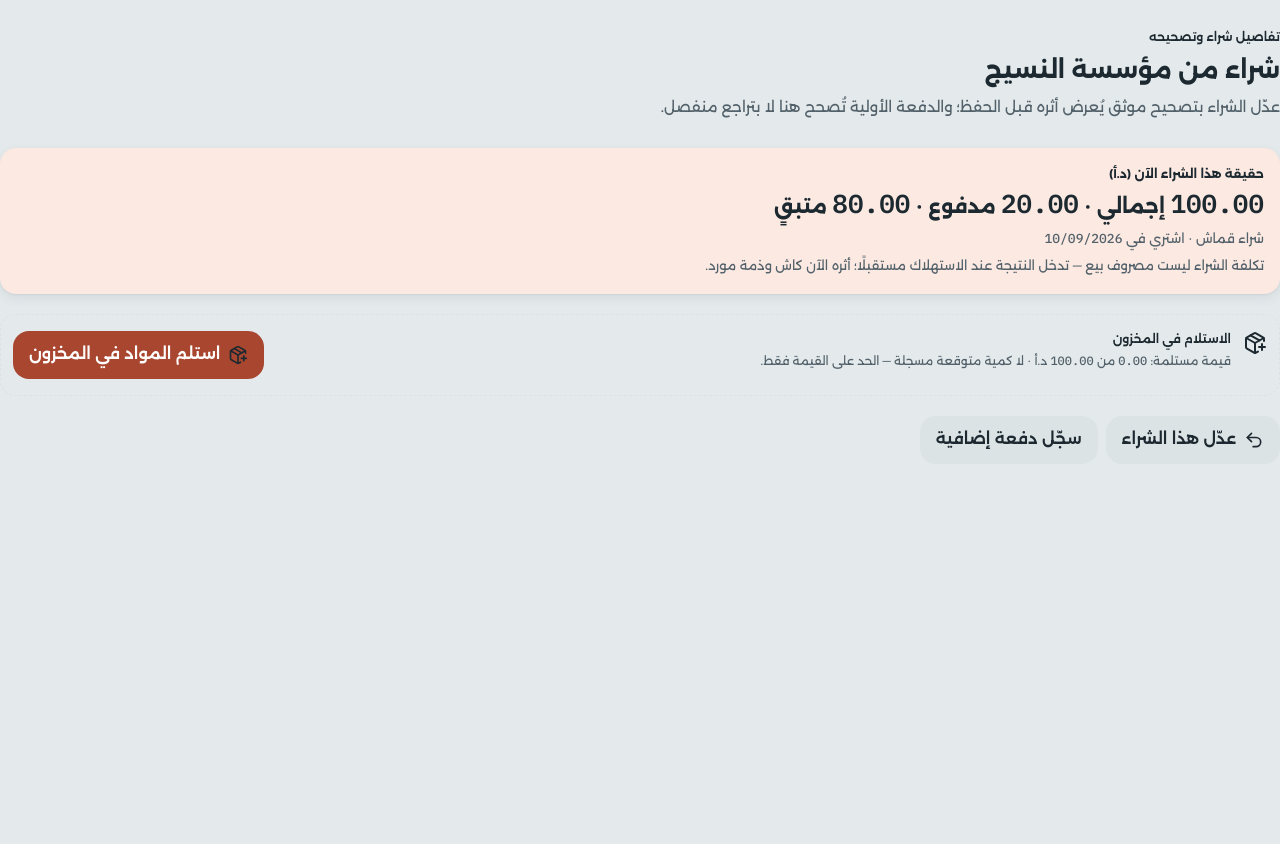
Test: G3 hardening — storage_stale recovery journeys (typed codes, real store) › genuine storage failure renders as an error (role=alert), never styled as success
Expected: the heading "شراء من مؤسسة النسيج" is shown, [984,55,1279,84]
Click the button "عدّل هذا الشراء" at (1193, 440), box [1106,416,1279,464]
(page scrolled)
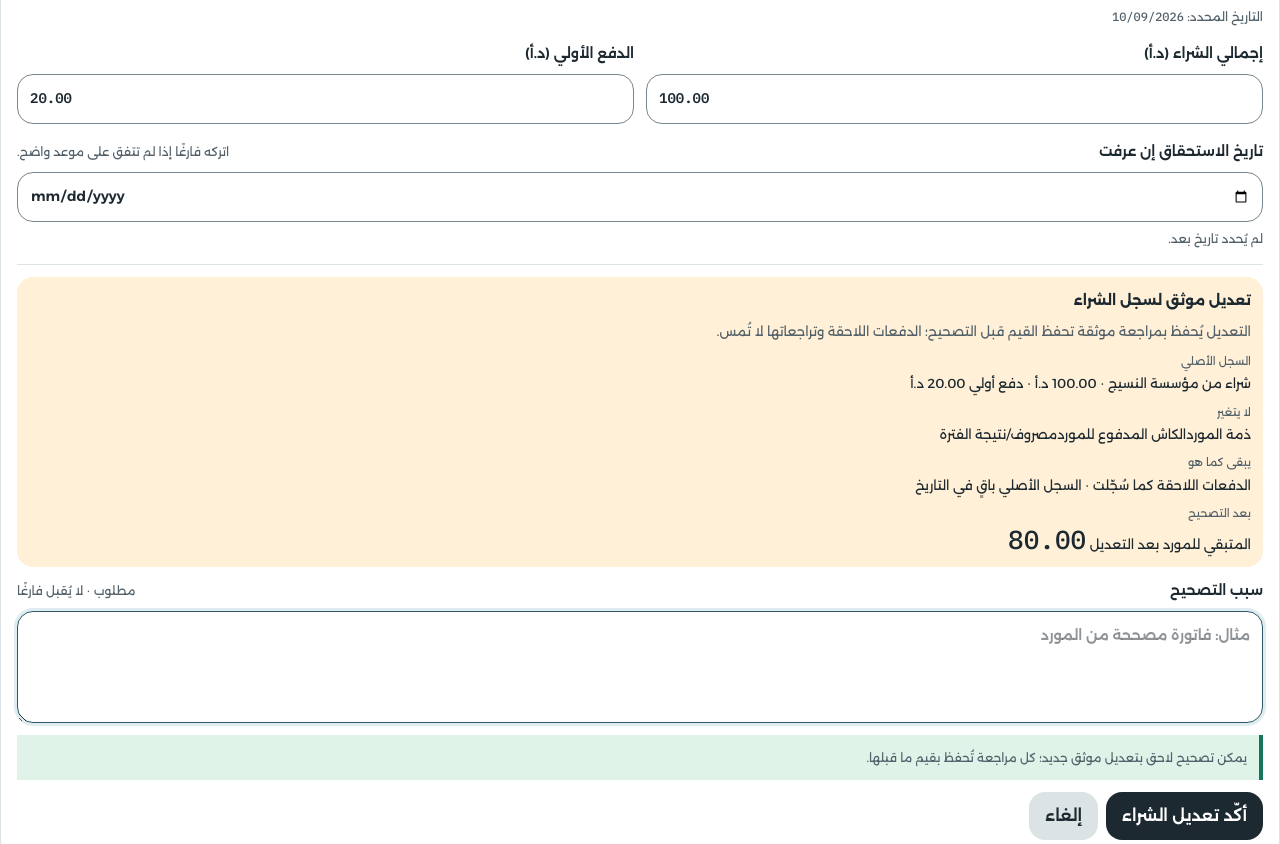
Type "فاتورة مصححة" into the text box with placeholder "مثال: فاتورة مصححة من المورد" at (640, 667), box [17,611,1263,723]
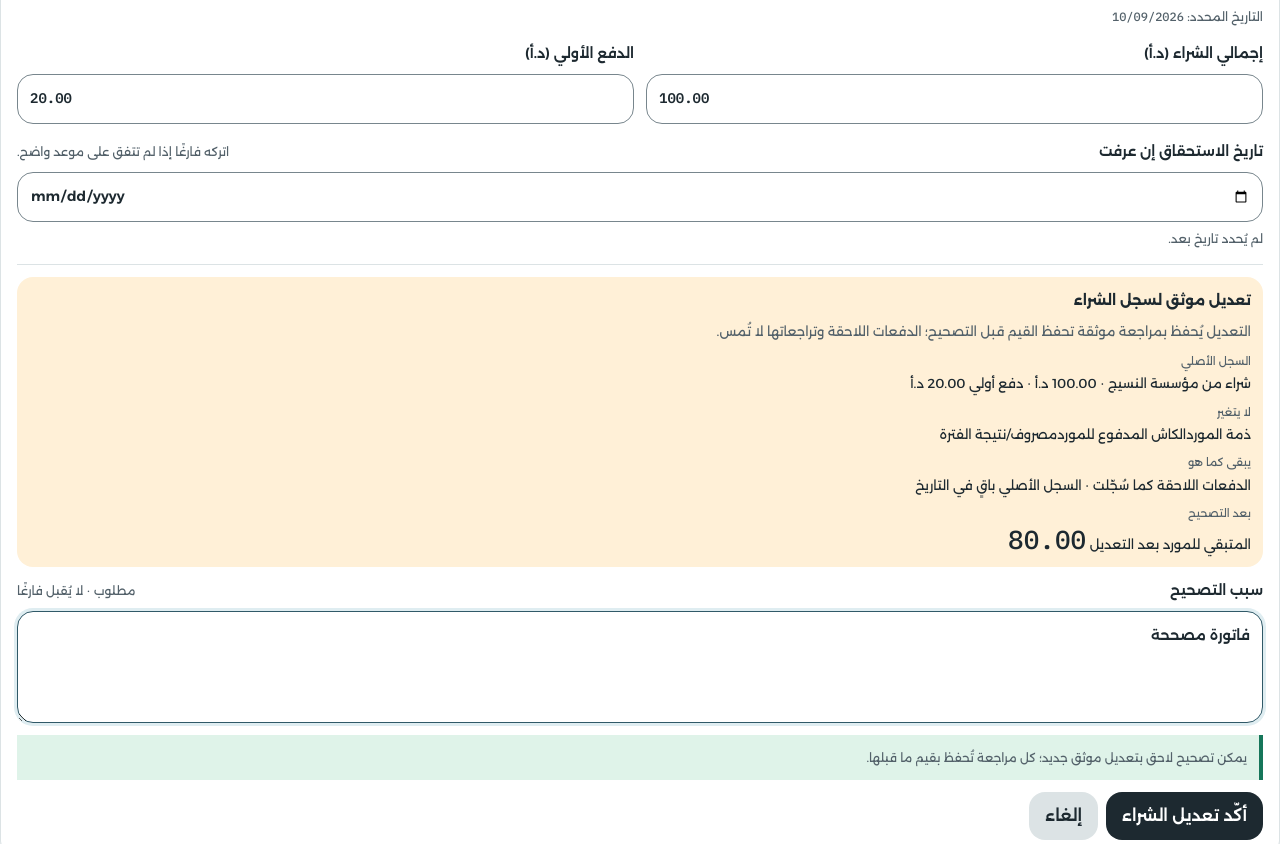
Click the button "أكّد تعديل الشراء" at (1185, 816), box [1106,792,1263,840]
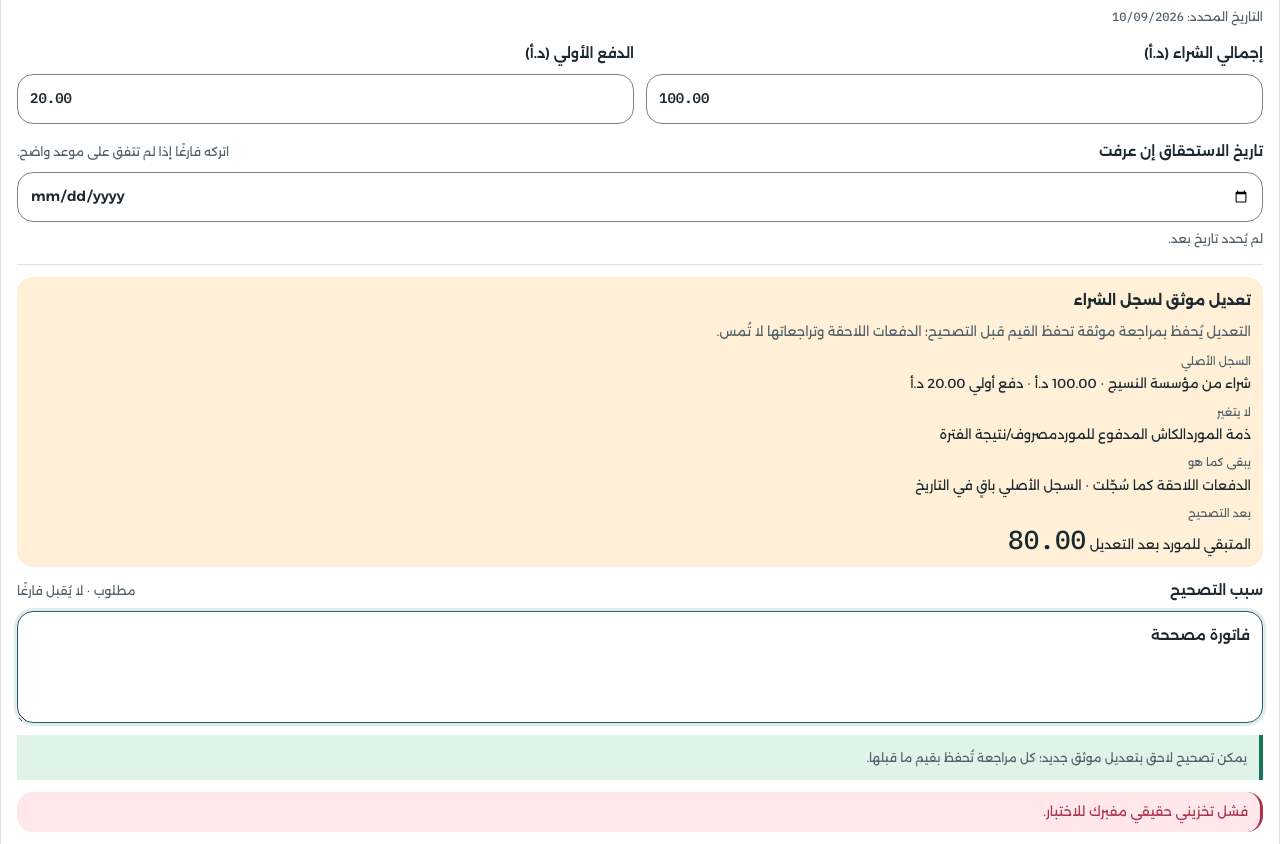
Expected: the number of messages with class "micro-field-error" is 1, [17,792,1263,832]
